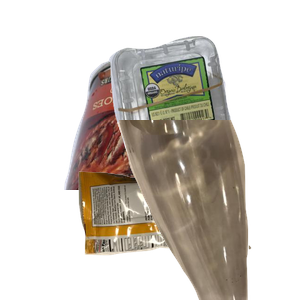glass: (115, 120, 300, 300)
metal: (62, 47, 300, 227)
plastic: (106, 34, 300, 183)
trash: (76, 159, 259, 300)
